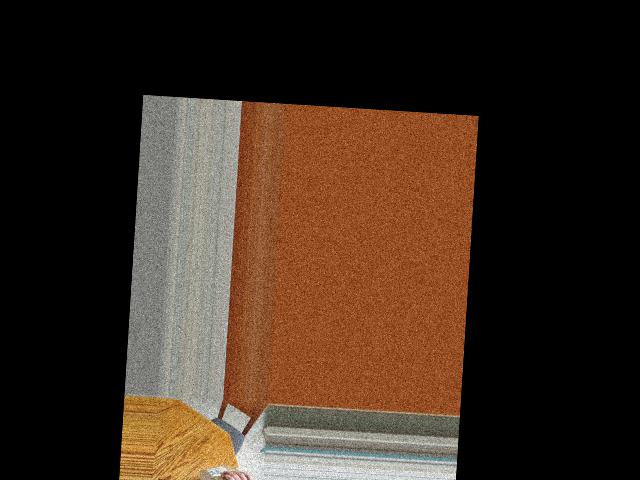cheese: (206, 463, 252, 480)
